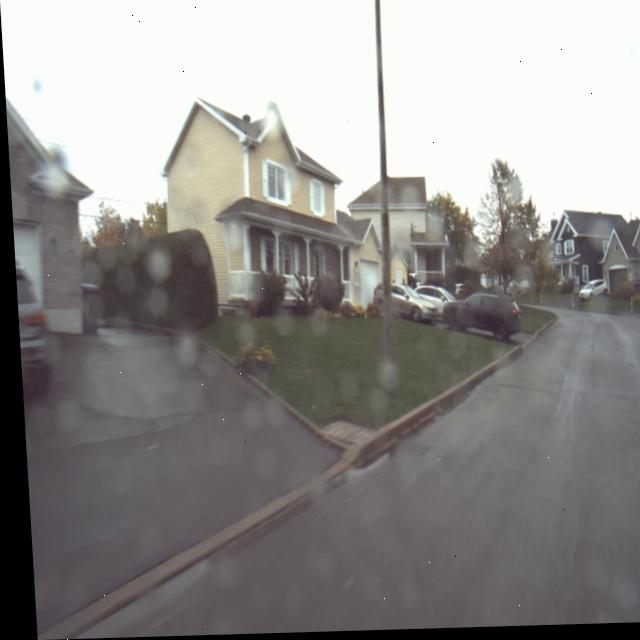car: (437, 278, 525, 345)
